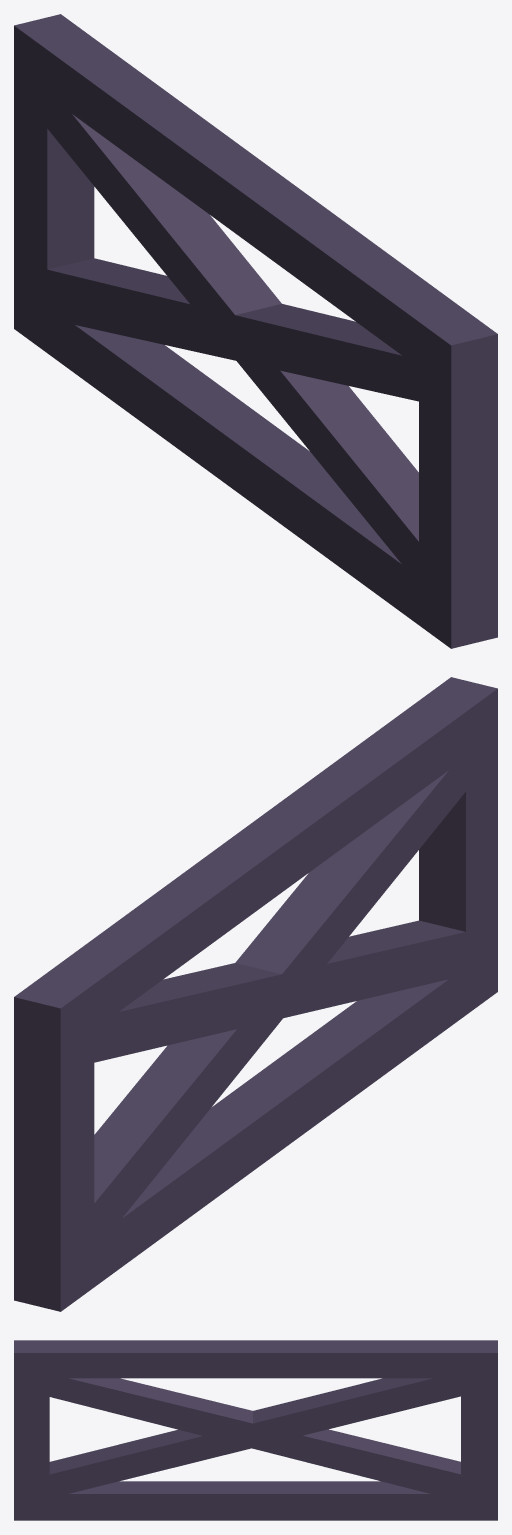
The model's file is ShortFrame3.fbx.
The picture shows the model from 3 angles, top to bottom: view 1: azimuth 30°, elevation 25°; view 2: azimuth 150°, elevation 25°; view 3: azimuth 270°, elevation 25°; orthographic projection. The views are drawn at different scales.
Visible parts, largest first — view 1: ShortFrame3; view 2: ShortFrame3; view 3: ShortFrame3.
Part boxes in pixels (<box>): ShortFrame3: <box>14,14,497,648</box>; ShortFrame3: <box>14,677,497,1311</box>; ShortFrame3: <box>14,1340,497,1520</box>.
Size of the model in its own units: 7.29 by 45.13 by 118.
